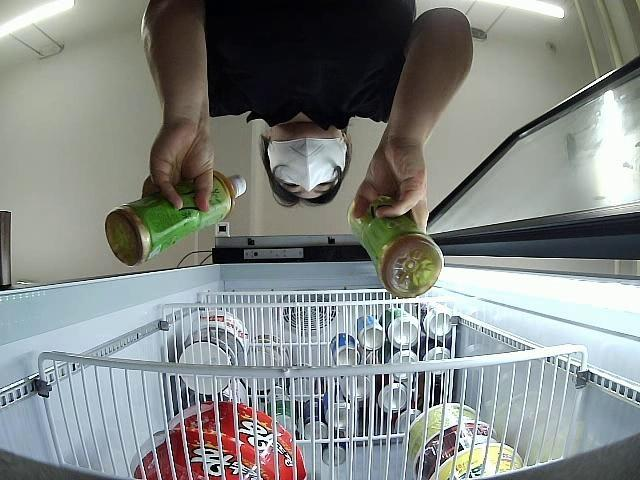19_17cha: (104, 176, 244, 264), (348, 198, 442, 300)
